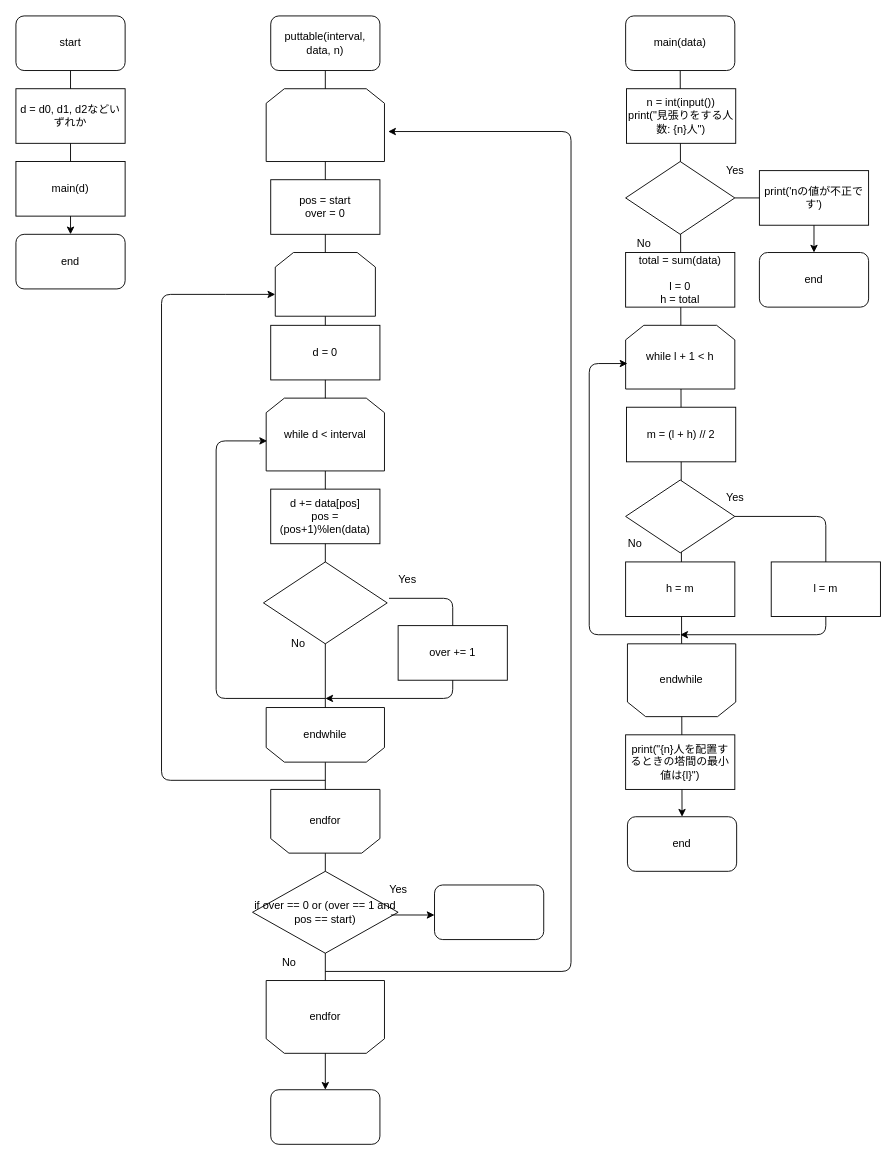
Some shapes in this 896 by 1160 pixel diagram are drawn without their labels. Each missing label, with the box of its shape:
for _ in range(1, n+1): (274, 252, 375, 316)
for start in range(len(data)): (265, 88, 384, 162)
if n > len(data): (625, 161, 735, 234)
if puttable(m, data, n): (625, 479, 735, 553)
pos == start: (263, 561, 387, 644)
return False: (270, 1089, 380, 1144)
return True: (434, 884, 544, 940)
